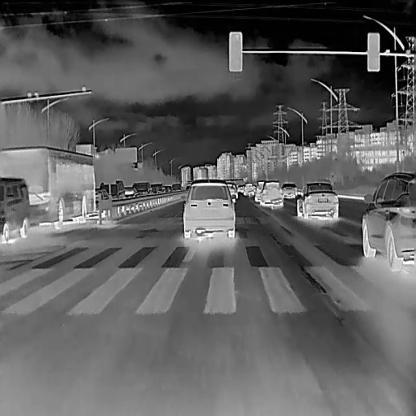car: (0, 145, 95, 242), (361, 172, 414, 269), (181, 179, 235, 239), (296, 181, 338, 218), (87, 188, 110, 218), (259, 180, 283, 206), (132, 182, 149, 198), (253, 180, 265, 202), (281, 182, 297, 198), (227, 182, 237, 202), (123, 185, 137, 199), (149, 182, 163, 196), (242, 182, 255, 196), (163, 185, 173, 194), (171, 183, 182, 191), (238, 184, 245, 193)
crosswalk: (0, 238, 375, 327)
